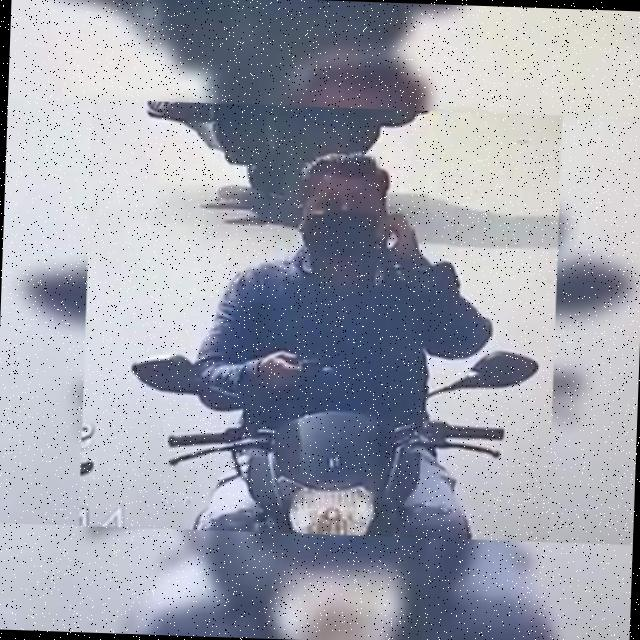Using mobile: (234, 139, 470, 361)
